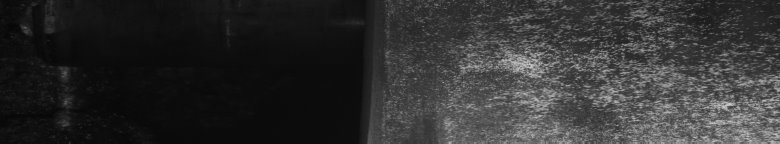kb: (404, 4, 776, 136)
